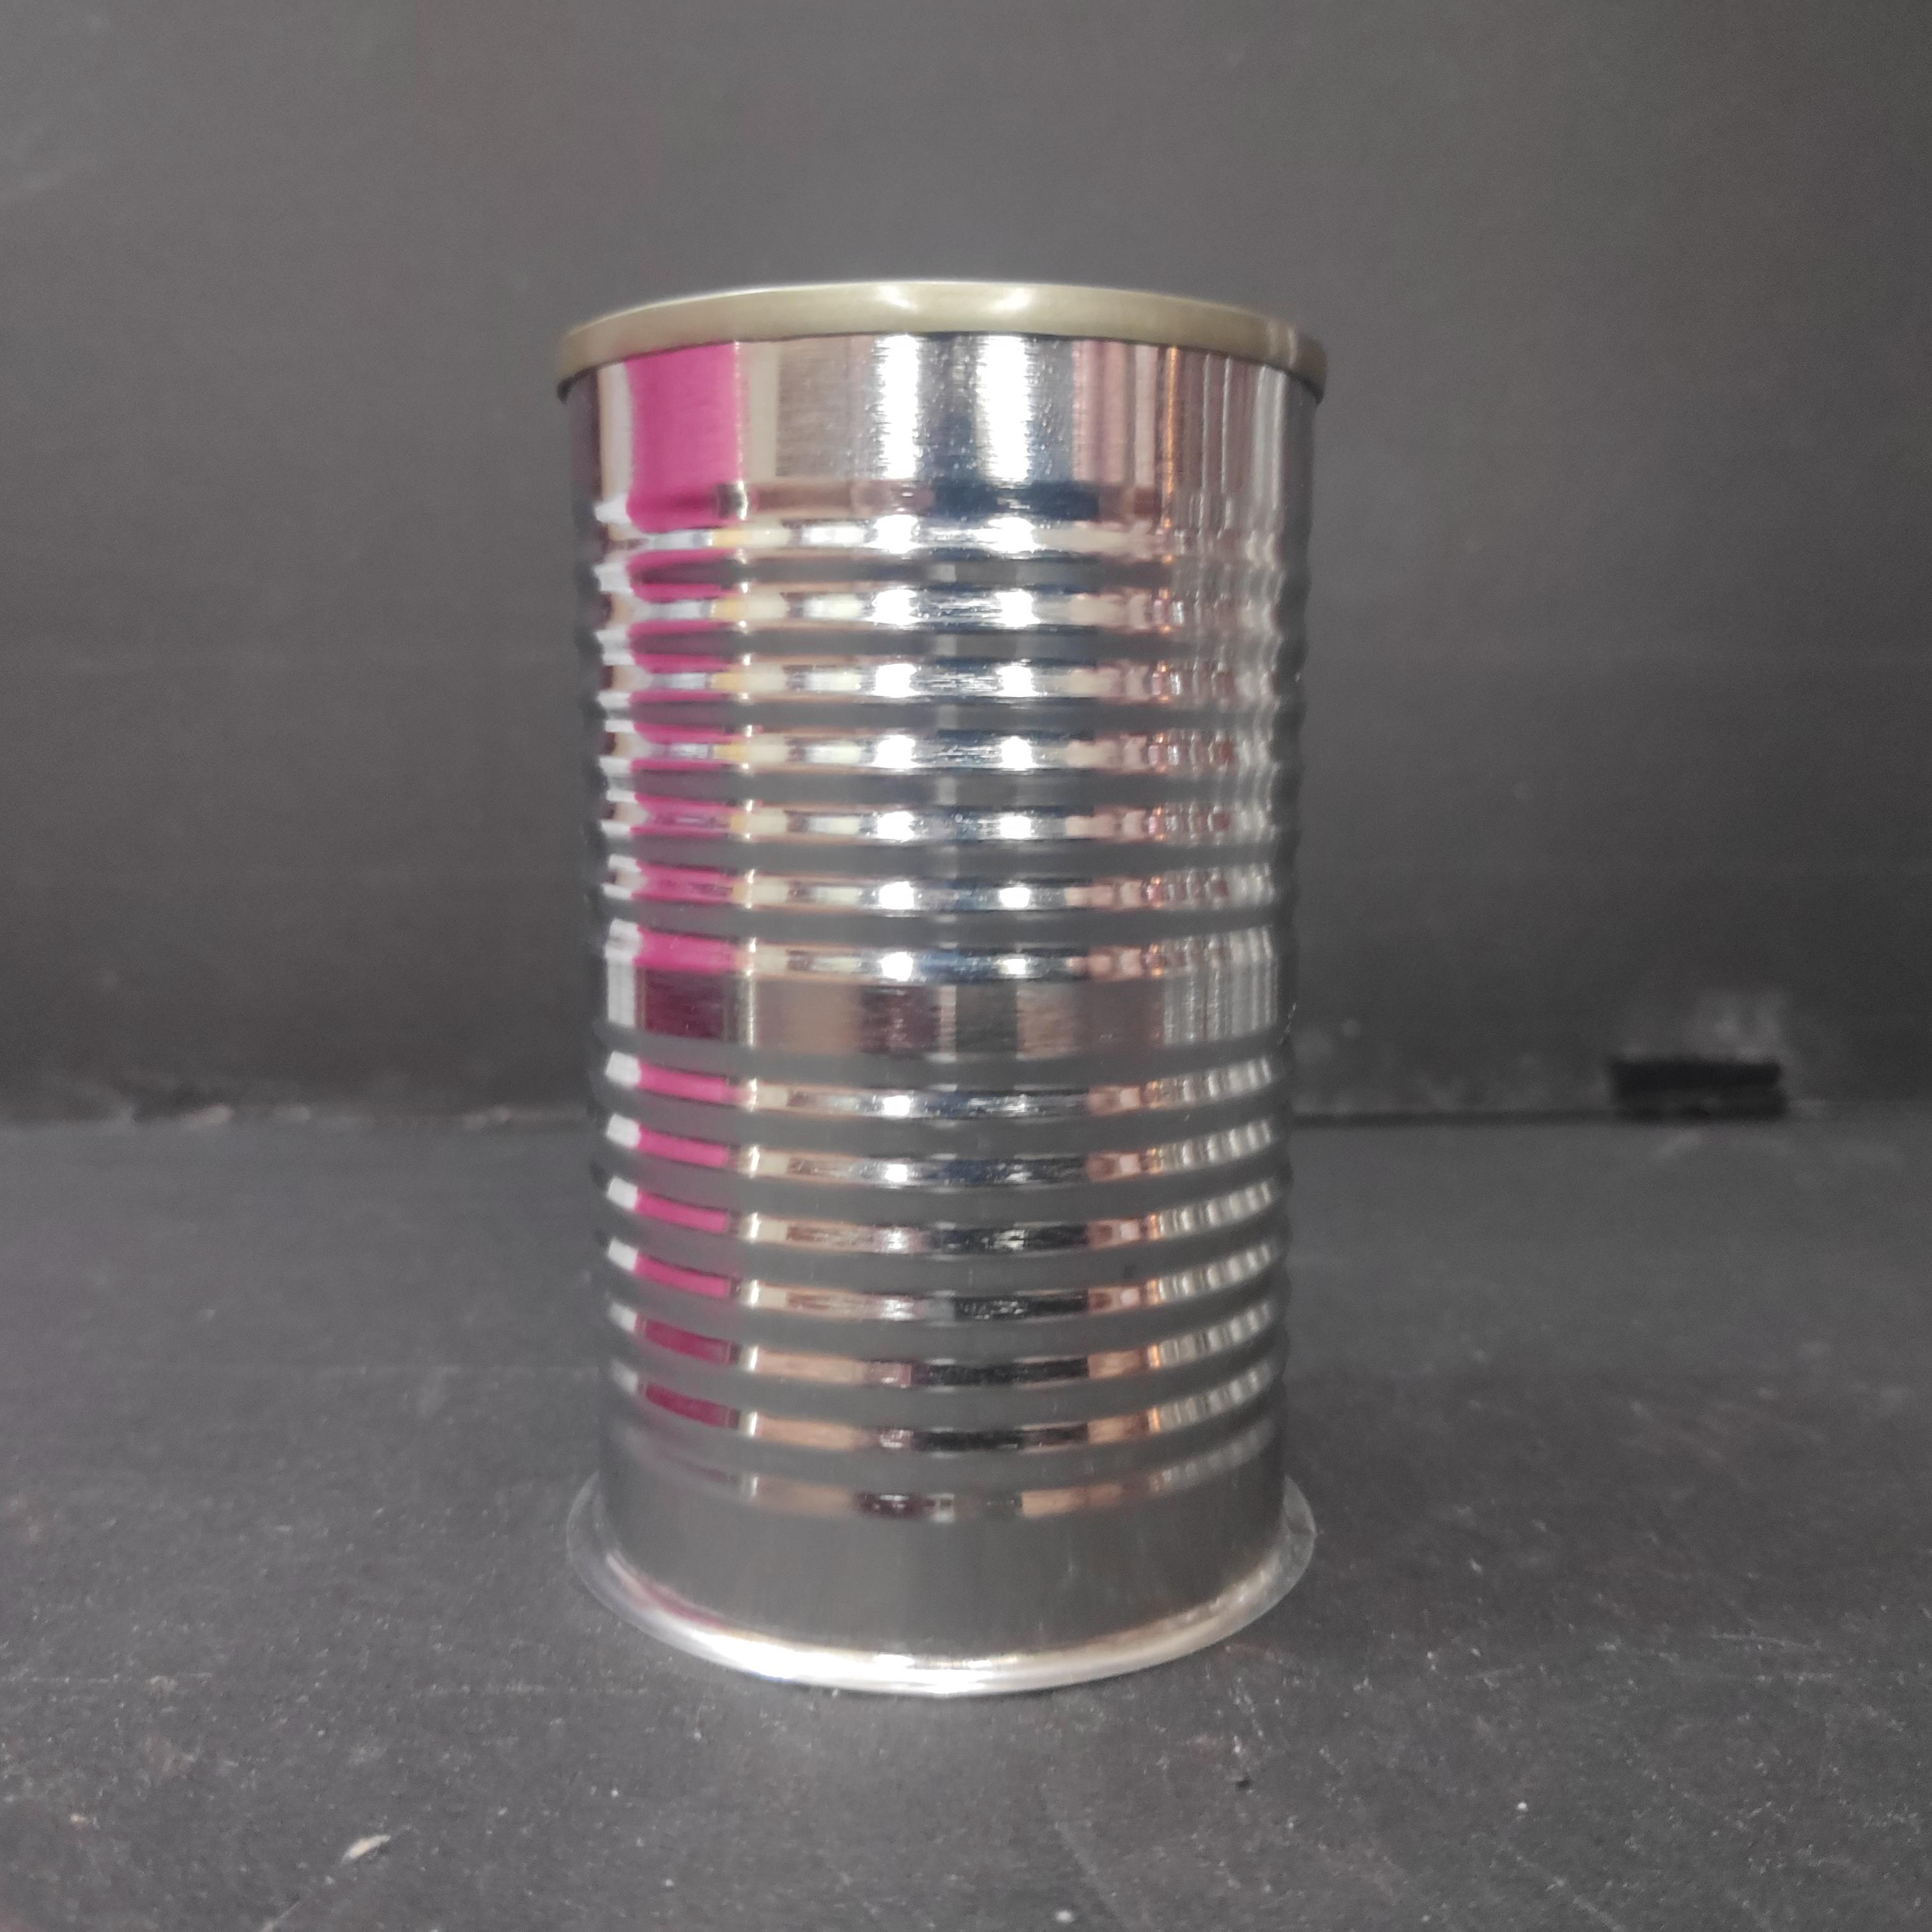No defect: (548, 263, 1341, 1712)
